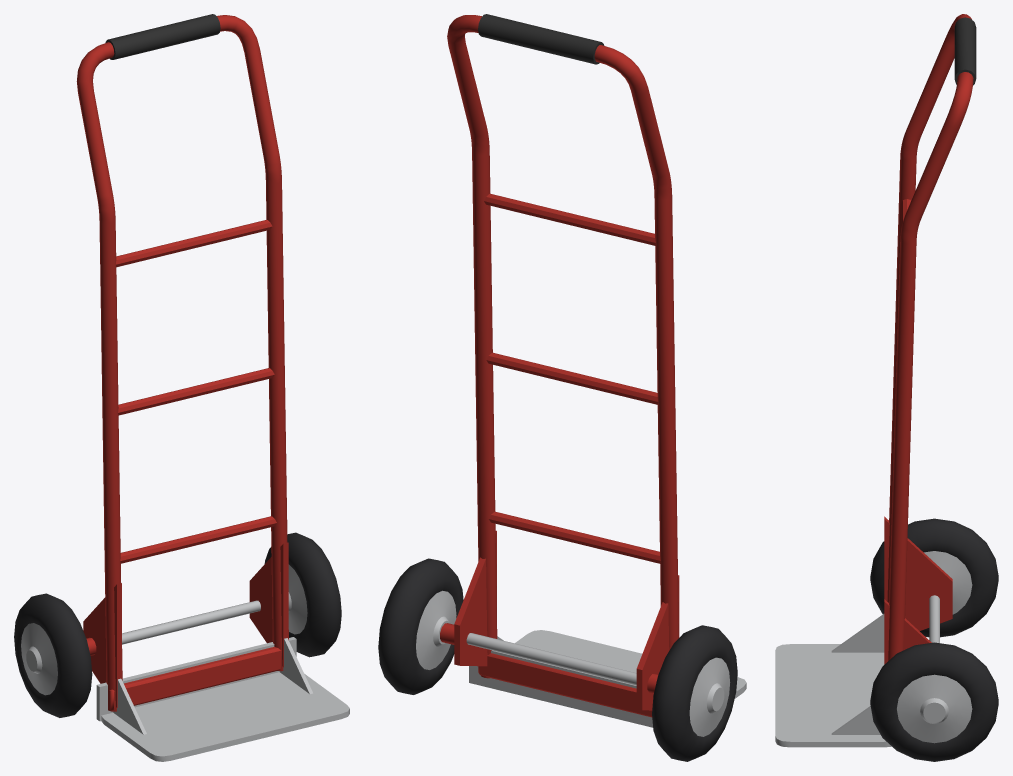
Rendered from dolly.glb.
3 renders of one model, left to right at view 1: azimuth 30°, elevation 25°; view 2: azimuth 150°, elevation 25°; view 3: azimuth 270°, elevation 25°, orthographic. The views are drawn at different scales.
Parts seen in each view (by area): view 1: Frame, Nose, Wheel_R, Wheel_L; view 2: Frame, Wheel_R, Wheel_L, Nose; view 3: Frame, Wheel_L, Nose, Wheel_R.
Part boxes in pixels (bbox=[...]): Frame: bbox=[76, 14, 288, 711]; Nose: bbox=[96, 637, 349, 761]; Wheel_R: bbox=[14, 593, 92, 717]; Wheel_L: bbox=[264, 532, 341, 657]; Frame: bbox=[440, 14, 679, 717]; Wheel_R: bbox=[652, 625, 737, 761]; Wheel_L: bbox=[378, 558, 463, 694]; Nose: bbox=[469, 630, 746, 727]; Frame: bbox=[884, 14, 976, 664]; Wheel_L: bbox=[870, 642, 998, 761]; Nose: bbox=[775, 614, 891, 747]; Wheel_R: bbox=[870, 518, 998, 637].
Bounding box in the file's own units: 0.668 × 1.41 × 0.435.
